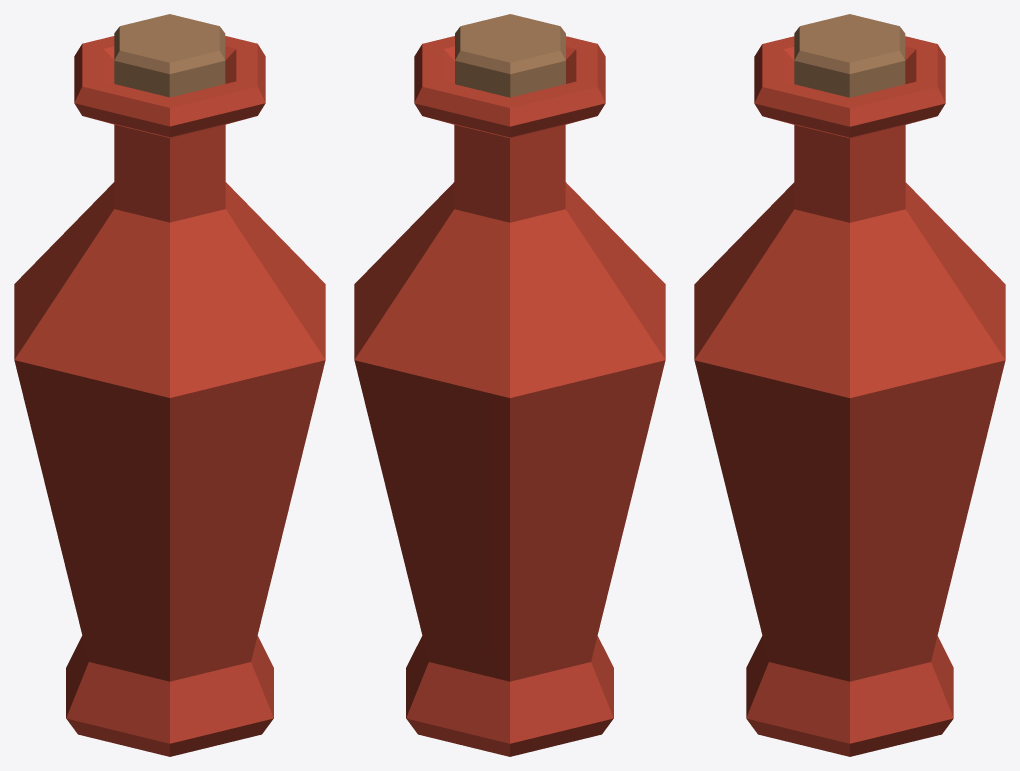
The model's file is Red_Potion_8.fbx.
3 renders of one model, left to right at view 1: azimuth 30°, elevation 25°; view 2: azimuth 150°, elevation 25°; view 3: azimuth 270°, elevation 25°, orthographic.
Parts seen in each view (by area): view 1: Red_Potion_8; view 2: Red_Potion_8; view 3: Red_Potion_8.
Boxes of the visible parts, x1=… form: Red_Potion_8: x1=14, y1=14, x2=325, y2=756; Red_Potion_8: x1=354, y1=14, x2=665, y2=756; Red_Potion_8: x1=694, y1=14, x2=1005, y2=756.
Bounding box in the file's own units: 16.45 × 34.03 × 14.25.
